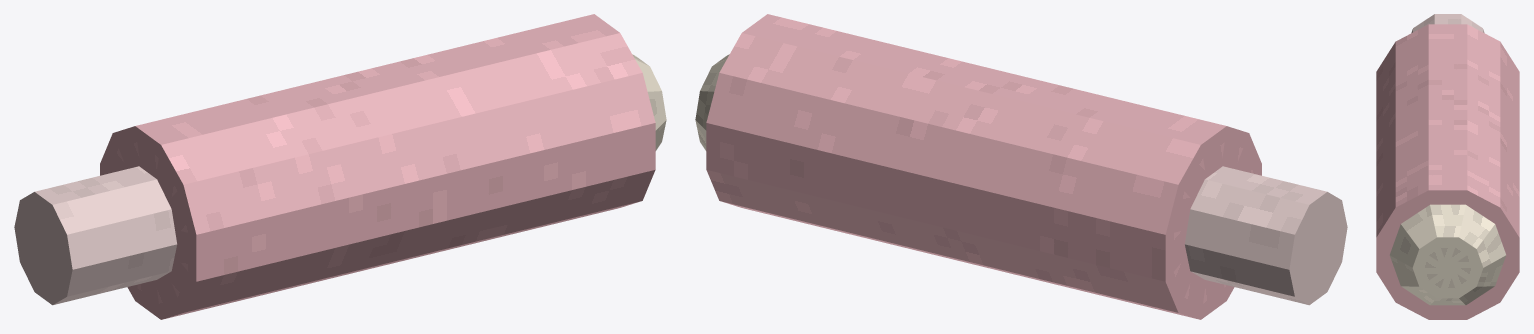
File: tampon.glb
3 renders of one model, left to right at view 1: azimuth 30°, elevation 25°; view 2: azimuth 150°, elevation 25°; view 3: azimuth 270°, elevation 25°, orthographic. The views are drawn at different scales.
Parts seen in each view (by area): view 1: block_plastic applicator, block_inner plunger, block_exposed cotton tip; view 2: block_plastic applicator, block_inner plunger, block_exposed cotton tip; view 3: block_plastic applicator, block_exposed cotton tip, block_inner plunger.
Part boxes in pixels (x1,y1,x2,y2): block_plastic applicator: (100,14,655,319); block_inner plunger: (14,166,177,305); block_exposed cotton tip: (632,54,666,150); block_plastic applicator: (706,14,1261,319); block_inner plunger: (1184,166,1347,305); block_exposed cotton tip: (695,54,729,150); block_plastic applicator: (1376,24,1519,319); block_exposed cotton tip: (1389,204,1506,305); block_inner plunger: (1411,14,1484,32).
Size of the model in its own units: 0.0667 by 0.0186 by 0.0186.
Materials: 1 (1 with a texture image).
